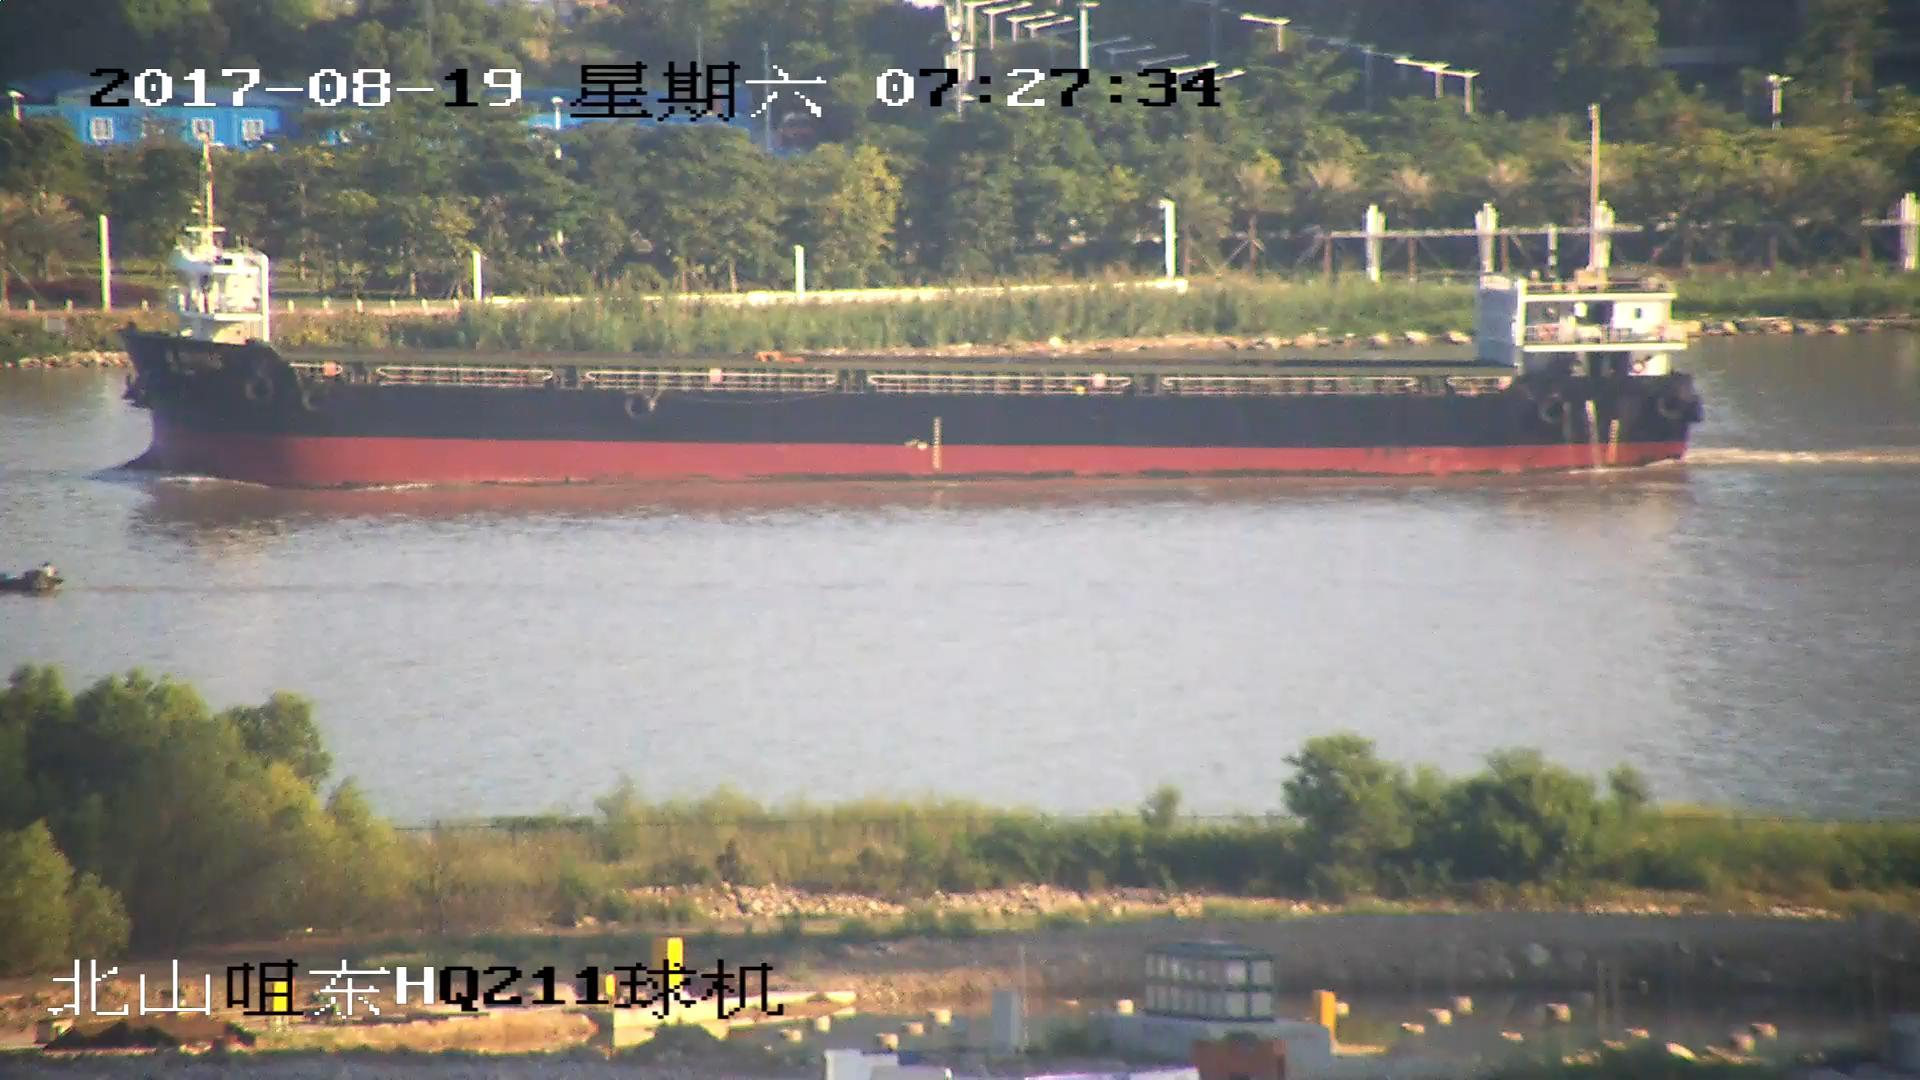Ship: (127, 229, 1704, 487)
